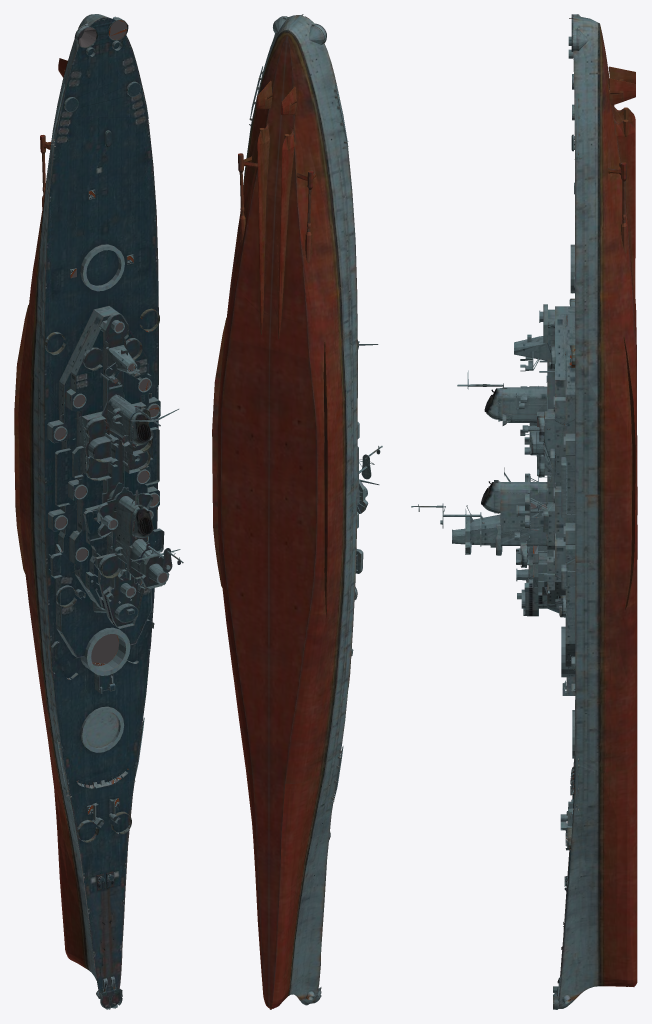
The model's file is iowa_lod0_jpg.obj.
The picture shows the model from 3 angles, left to right: view 1: azimuth 30°, elevation 25°; view 2: azimuth 150°, elevation 25°; view 3: azimuth 270°, elevation 25°; orthographic projection.
Visible parts, largest first — view 1: Object.1; view 2: Object.1; view 3: Object.1.
Boxes of the visible parts, left/top/right/bottom form: Object.1: left=14, top=14, right=183, bottom=1009; Object.1: left=212, top=14, right=382, bottom=1009; Object.1: left=411, top=14, right=637, bottom=1009.
Size of the model in its own units: 68.6 by 563 by 116.
Materials: 1 (1 with a texture image).
